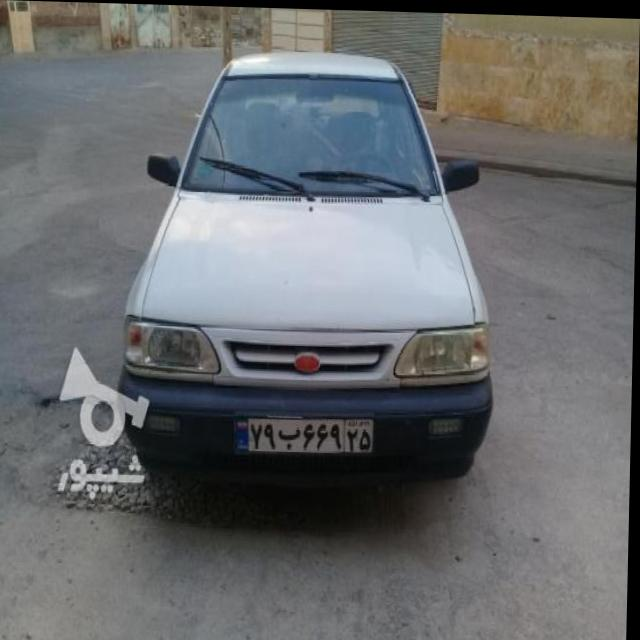licence: (230, 407, 377, 453)
